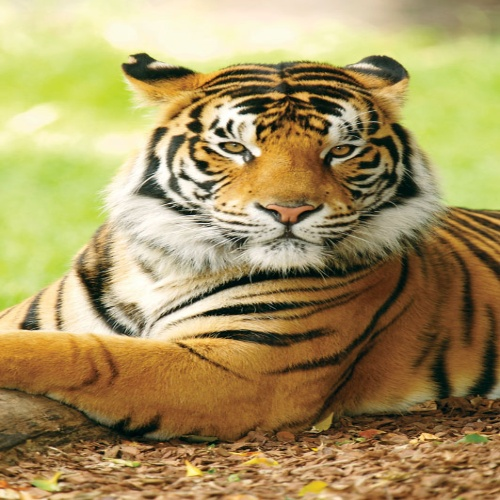tiger: (1, 19, 492, 448)
